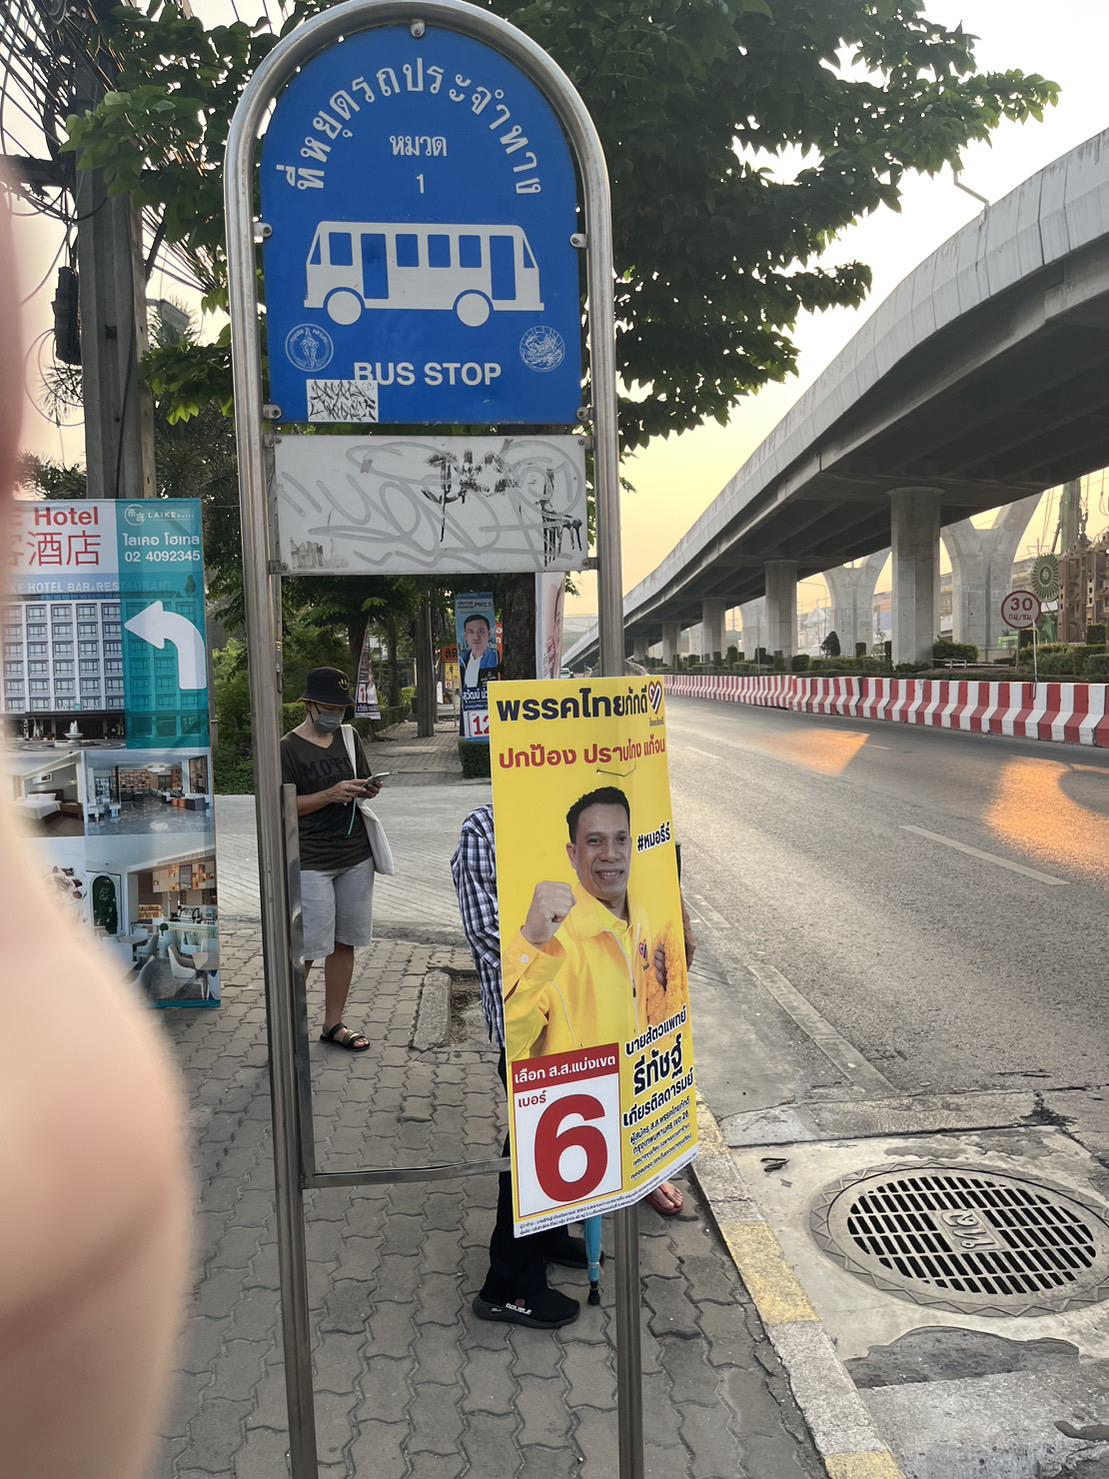Banner: (483, 684, 725, 1233), (448, 576, 503, 743)
